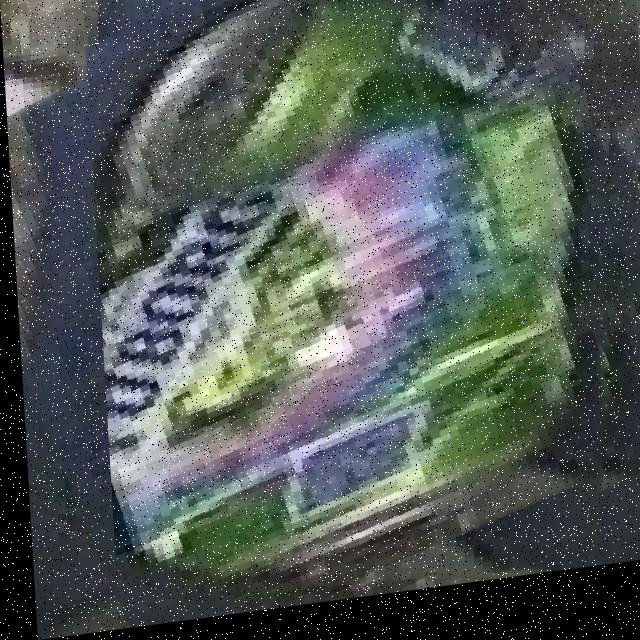can: (93, 0, 605, 606)
